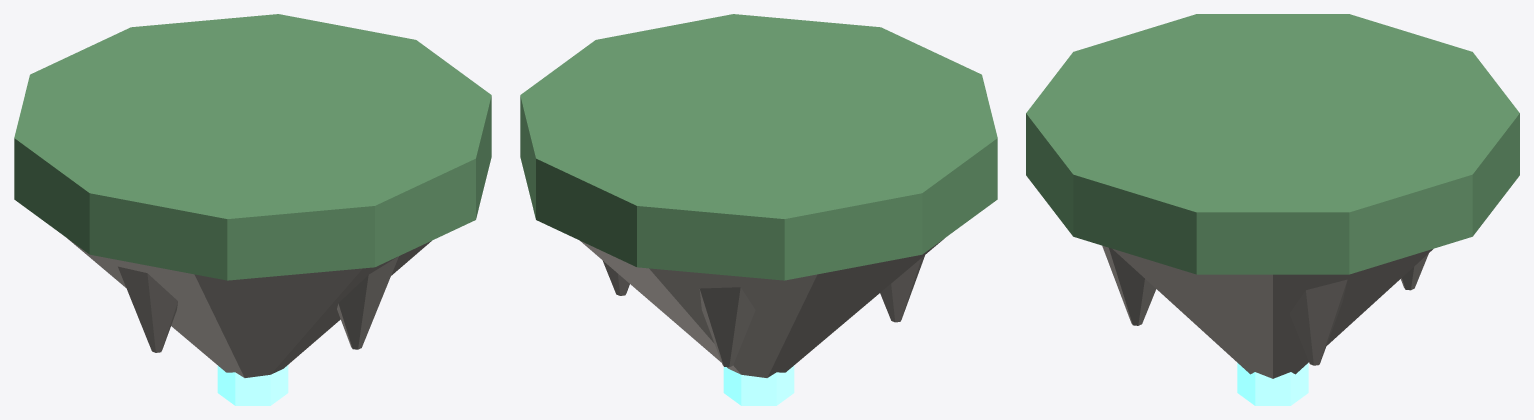
The model's file is rock_floating_island_chunk.glb.
3 renders of one model, left to right at view 1: azimuth 30°, elevation 25°; view 2: azimuth 150°, elevation 25°; view 3: azimuth 270°, elevation 25°, orthographic.
Visible parts, largest first — view 1: Island_Top_Surface, Island_Under_Crag, Inverted_Spire_3, Inverted_Spire_4, Gravity_Levitation_Crystal; view 2: Island_Top_Surface, Island_Under_Crag, Inverted_Spire_2, Gravity_Levitation_Crystal, Inverted_Spire_3; view 3: Island_Top_Surface, Island_Under_Crag, Inverted_Spire_1, Gravity_Levitation_Crystal, Inverted_Spire_4.
Part boxes in pixels (left/top/right/bottom): Island_Top_Surface: left=14, top=14, right=491, bottom=280; Island_Under_Crag: left=67, top=238, right=431, bottom=377; Inverted_Spire_3: left=118, top=266, right=177, bottom=352; Inverted_Spire_4: left=337, top=256, right=398, bottom=349; Gravity_Levitation_Crystal: left=217, top=365, right=288, bottom=405; Island_Top_Surface: left=520, top=14, right=997, bottom=280; Island_Under_Crag: left=580, top=238, right=944, bottom=377; Inverted_Spire_2: left=699, top=287, right=755, bottom=367; Gravity_Levitation_Crystal: left=723, top=365, right=794, bottom=405; Inverted_Spire_3: left=880, top=255, right=924, bottom=322; Island_Top_Surface: left=1026, top=14, right=1519, bottom=274; Island_Under_Crag: left=1113, top=249, right=1432, bottom=378; Inverted_Spire_1: left=1289, top=279, right=1347, bottom=365; Gravity_Levitation_Crystal: left=1237, top=363, right=1308, bottom=405; Inverted_Spire_4: left=1102, top=245, right=1156, bottom=325.
Bounding box in the file's own units: 17.12 × 11.25 × 18.
